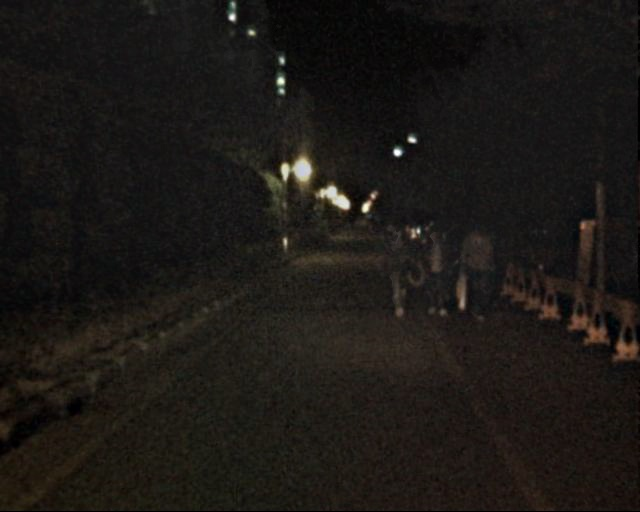person: (454, 221, 494, 319), (377, 226, 415, 319), (415, 227, 453, 320), (476, 224, 508, 301)
